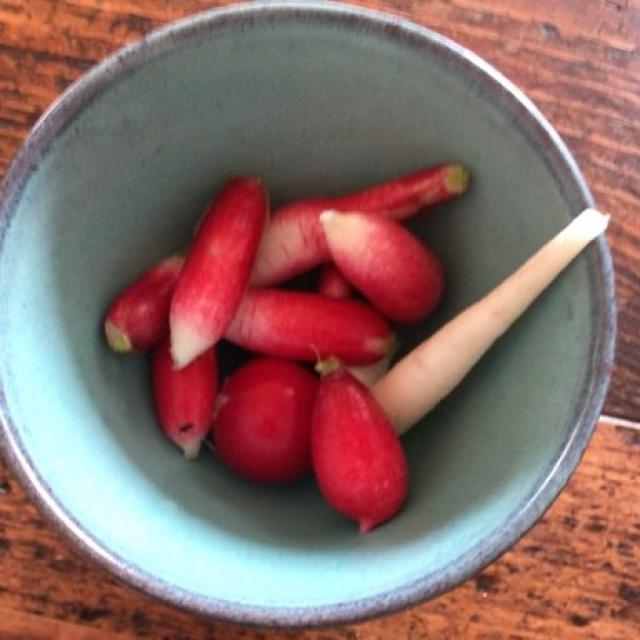red-radish: (106, 163, 457, 523)
